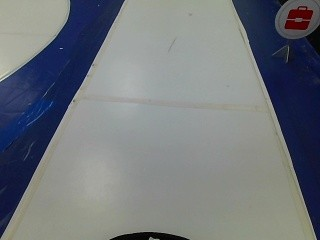company: (267, 0, 318, 42)
